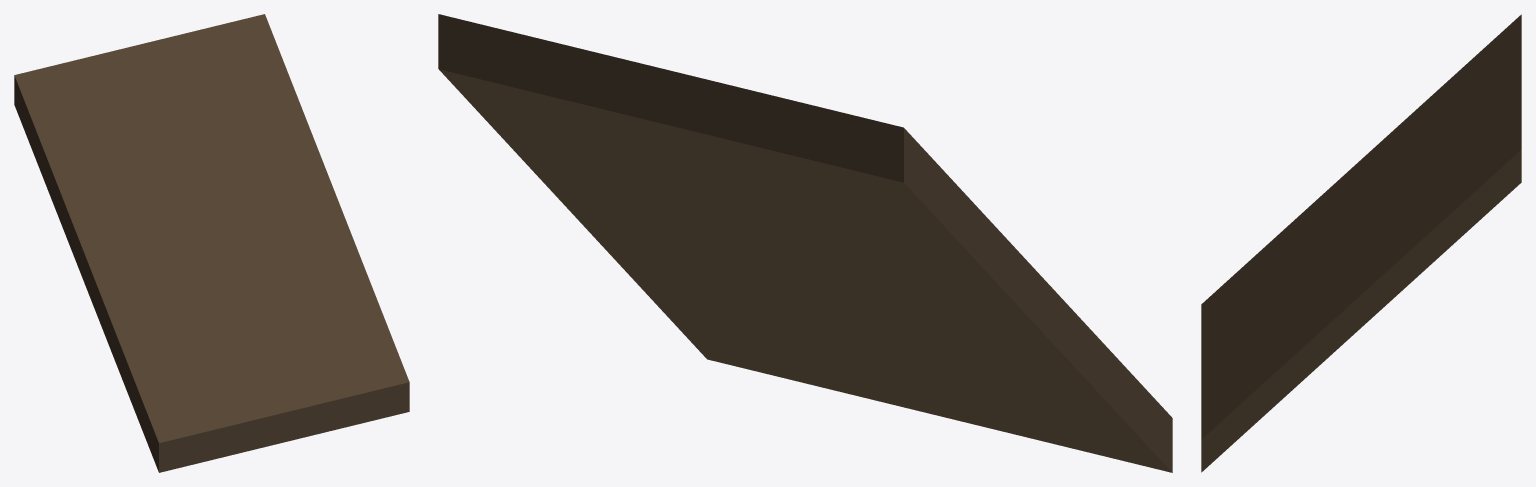
Rendered from dach_1x1.glb.
3 renders of one model, left to right at view 1: azimuth 30°, elevation 25°; view 2: azimuth 150°, elevation 25°; view 3: azimuth 270°, elevation 25°, orthographic. The views are drawn at different scales.
Visible parts, largest first — view 1: dach_1x1; view 2: dach_1x1; view 3: dach_1x1.
Part boxes in pixels (left/top/right/bottom): dach_1x1: left=14, top=14, right=409, bottom=472; dach_1x1: left=438, top=14, right=1172, bottom=472; dach_1x1: left=1201, top=14, right=1521, bottom=472.
Size of the model in its own units: 1 by 1.11 by 1.
